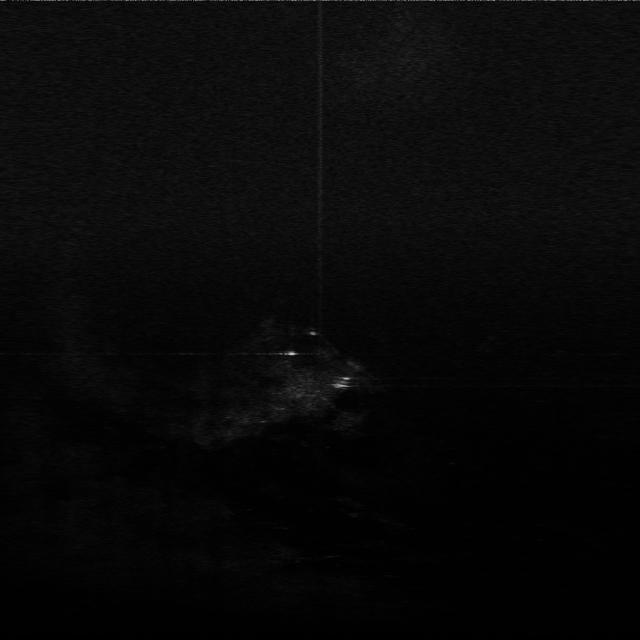rov: (331, 374, 357, 390)
